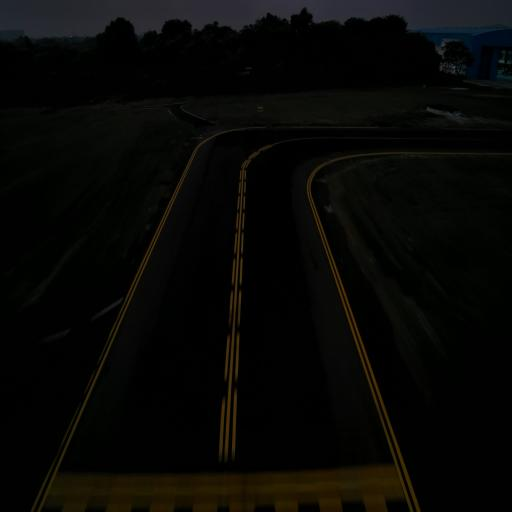on: (327, 203, 332, 210), (198, 134, 202, 140)
